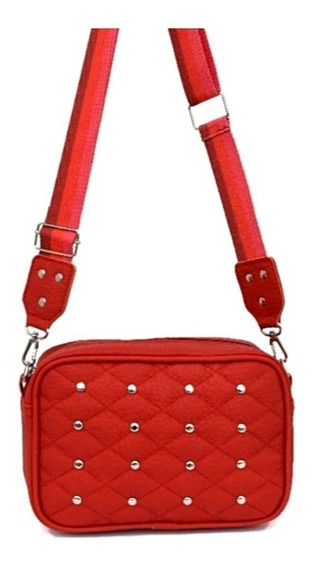cartera: (19, 28, 296, 534)
